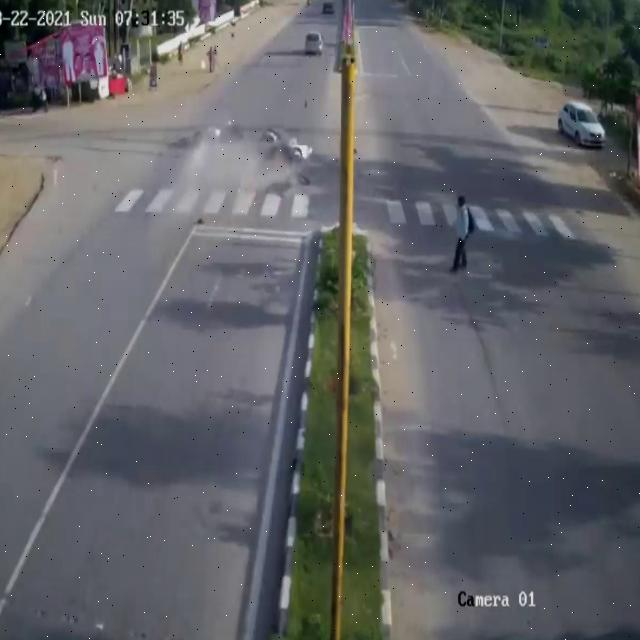accident: (184, 105, 314, 185)
